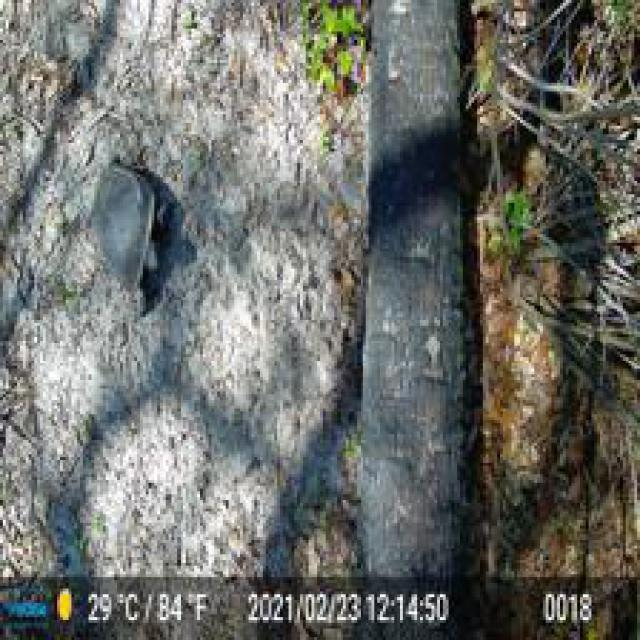tortoise: (83, 157, 171, 314)
